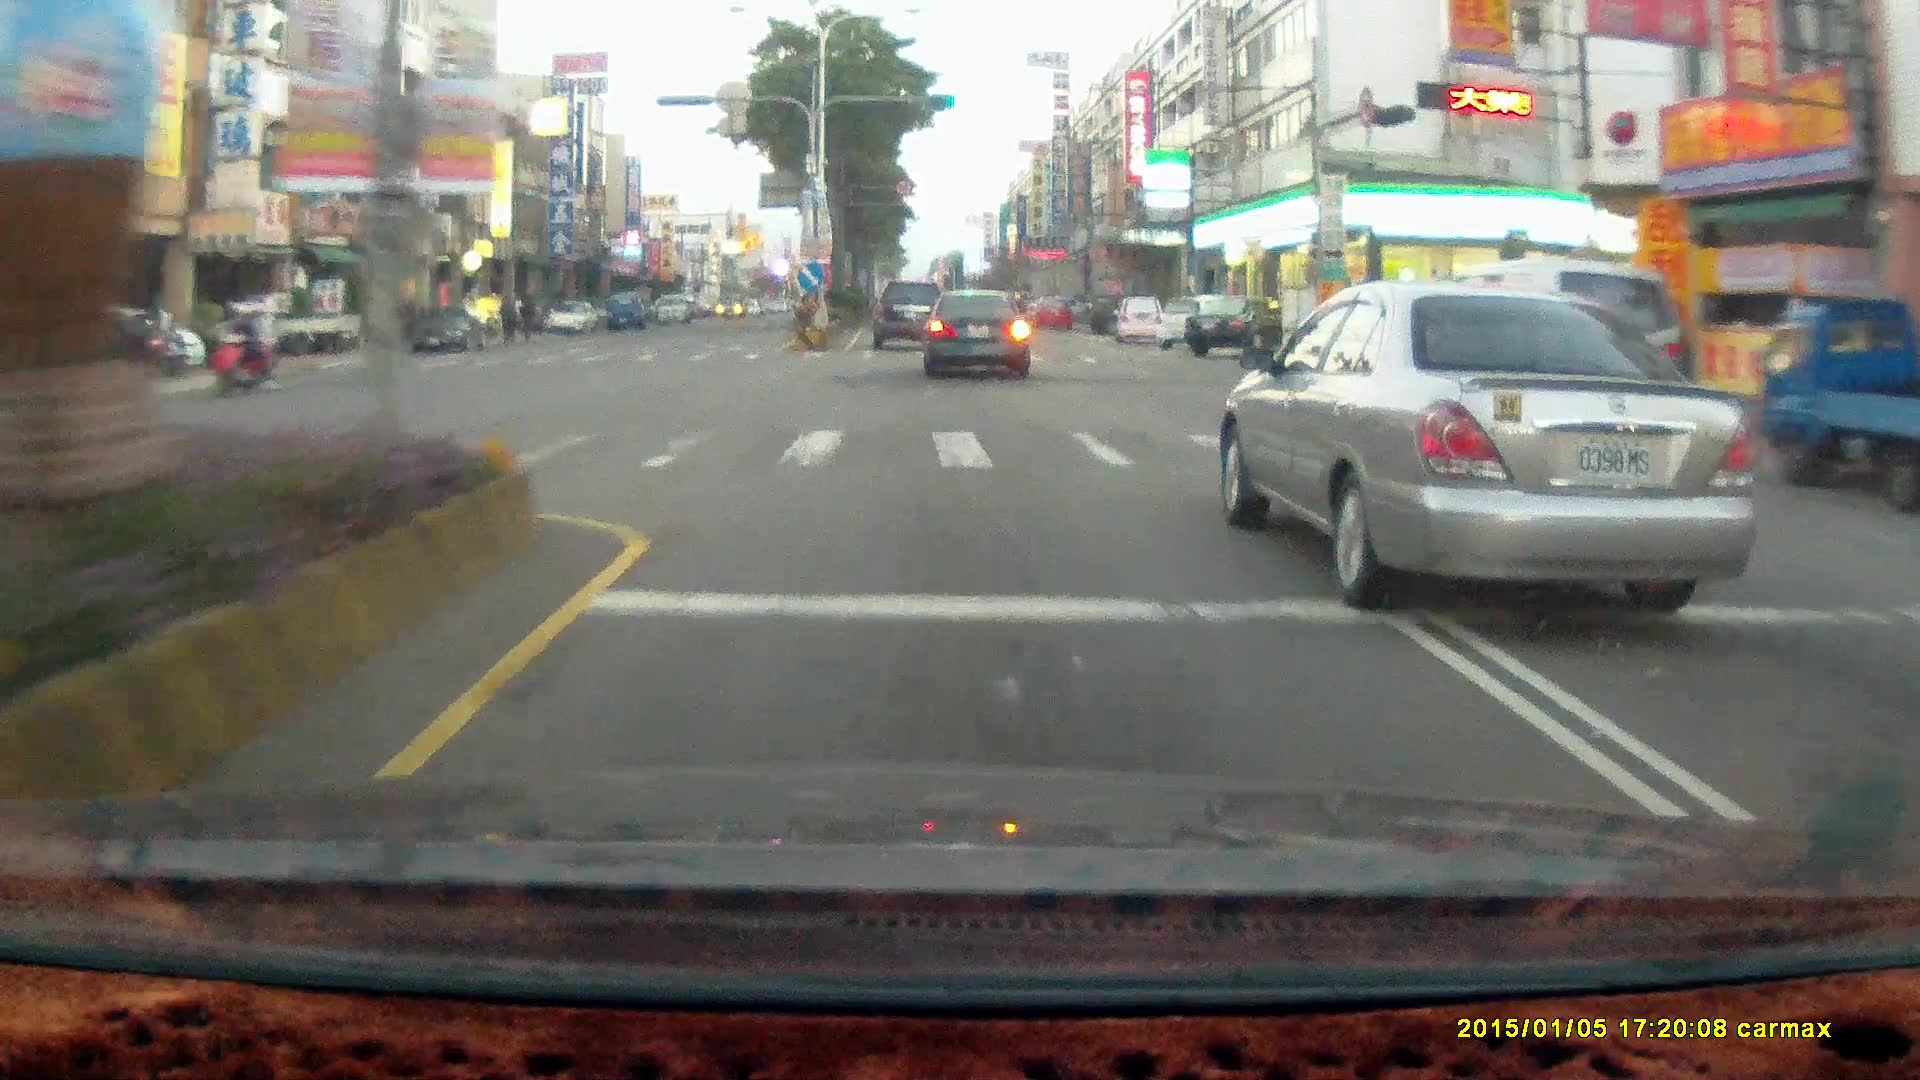pedestrian: (495, 287, 517, 341), (517, 283, 539, 338), (515, 288, 535, 341)
rider: (200, 297, 280, 394)
vehicle: (1221, 281, 1759, 601), (1385, 258, 1694, 459), (1379, 257, 1687, 457), (1756, 295, 1920, 513), (1764, 298, 1920, 503), (7, 310, 200, 381), (8, 305, 184, 381), (226, 292, 368, 366), (200, 292, 359, 356), (924, 291, 1034, 382), (922, 286, 1028, 377), (1183, 293, 1300, 357), (1183, 295, 1285, 358), (869, 275, 945, 350), (870, 279, 946, 350), (1154, 291, 1238, 347), (407, 300, 492, 355), (410, 310, 486, 350), (1116, 297, 1171, 349), (1110, 294, 1167, 344), (1083, 288, 1147, 330), (544, 299, 601, 337), (544, 297, 596, 329), (605, 289, 643, 325), (1031, 294, 1071, 327), (648, 292, 682, 319)
